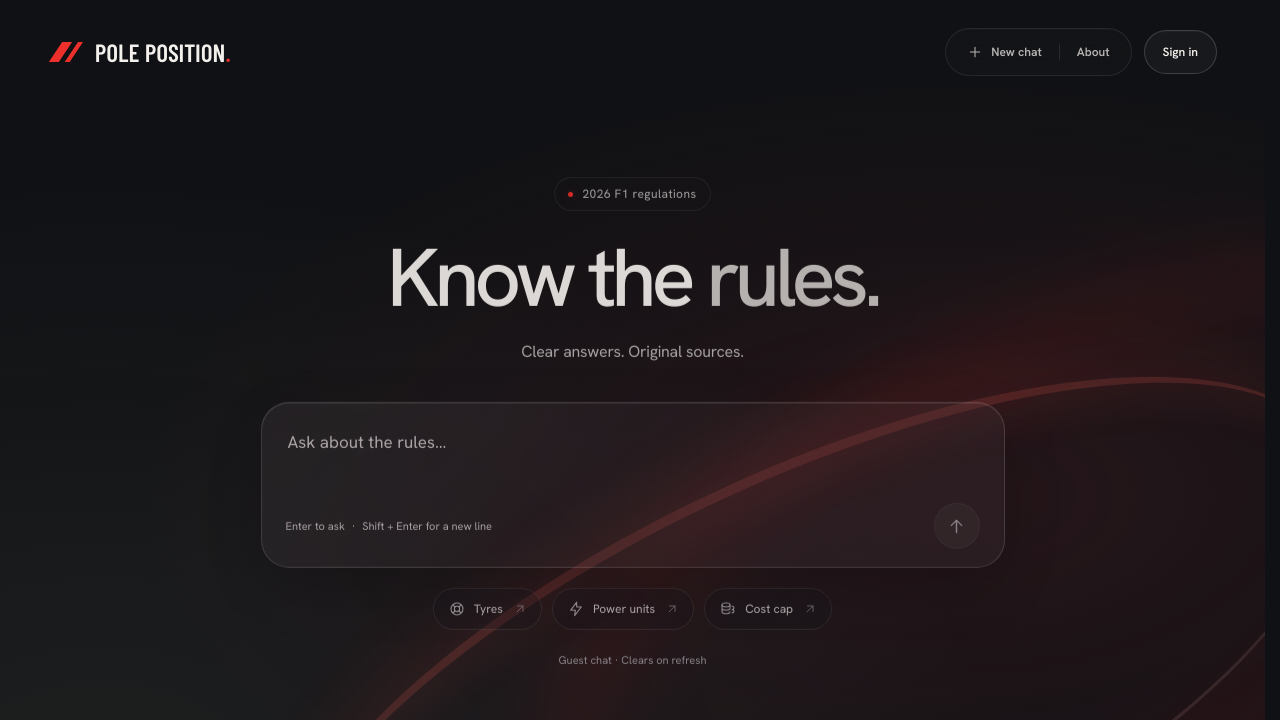
Test: guest chat integration › restores a network-failed draft and explicitly resends without adding a failed turn
Type "Retry question" into the text box. click: (632, 457)
box: [286, 424, 980, 490]
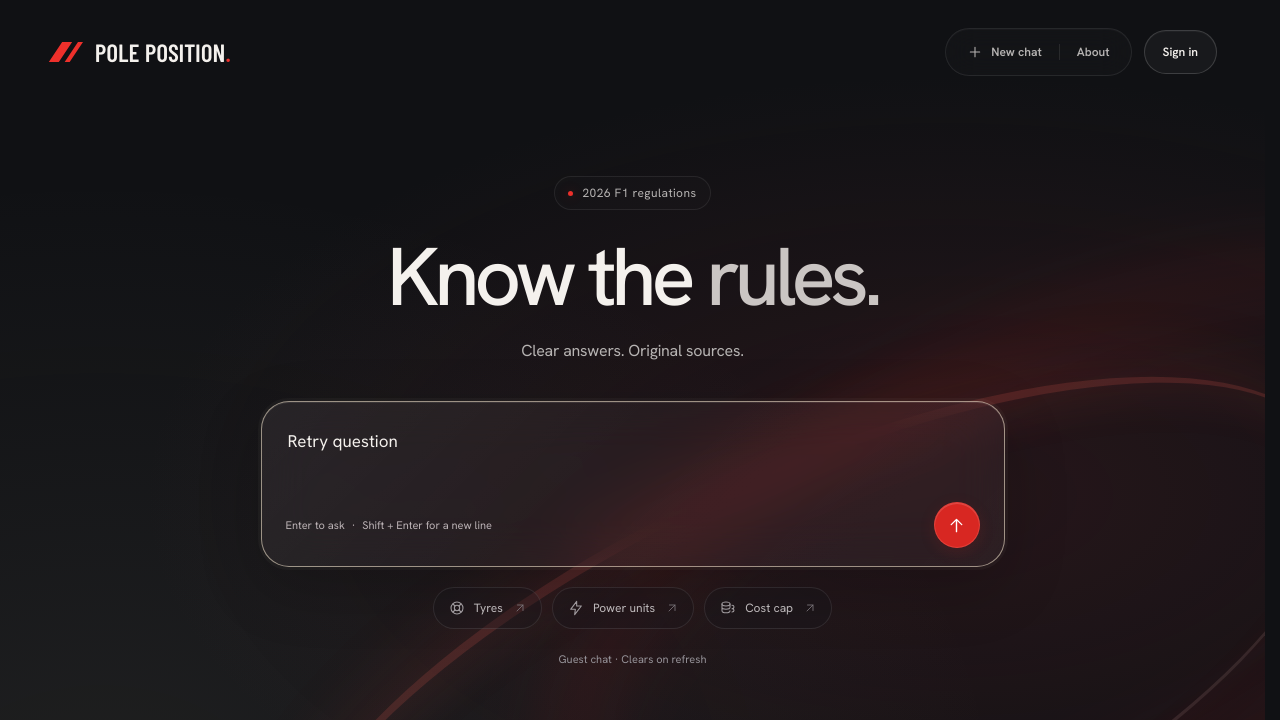
Click the button named "Send question". click: (956, 525)
box: [934, 502, 980, 548]
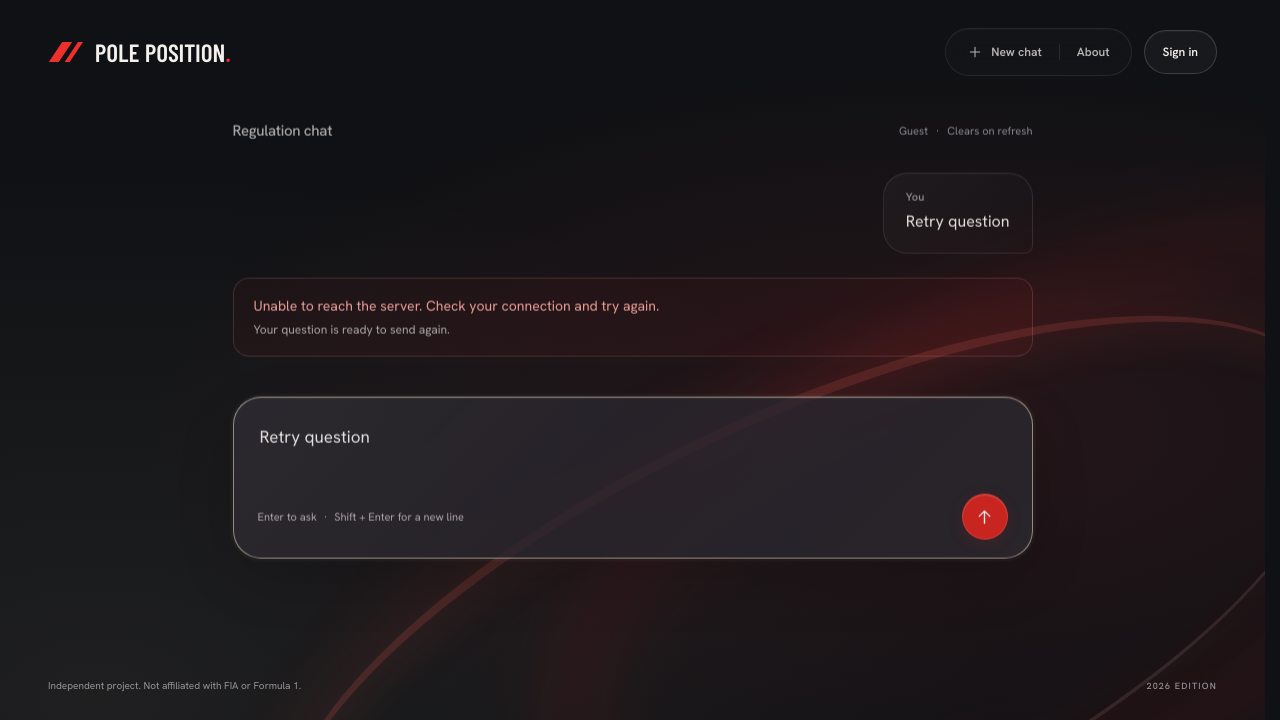
Expected: the text box holds "Retry question", [258, 419, 1008, 481]
Expected: the message shows "Unable to reach the server", [254, 296, 659, 314]
Click the button named "Send question". click: (984, 516)
box: [962, 493, 1008, 539]
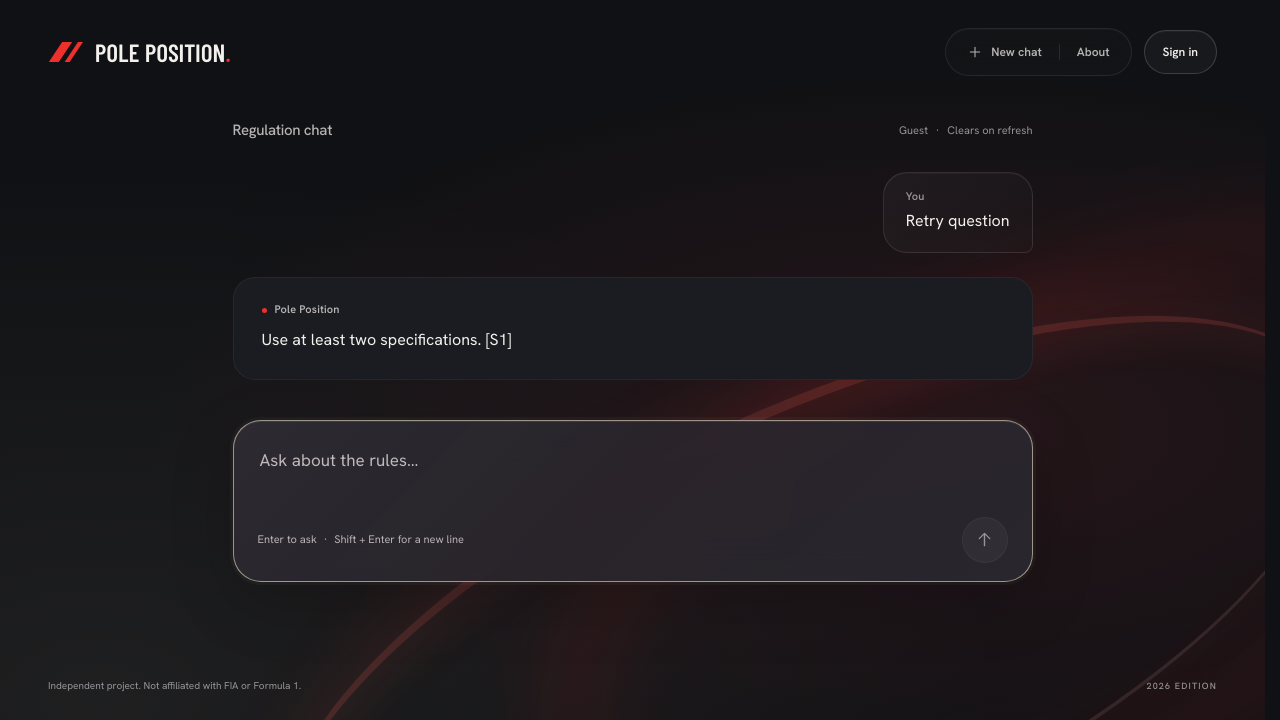
Expected: the text "Retry question" is shown once, [906, 207, 1010, 236]
Expected: the text "Use at least two specifications. [S1]" is shown, [262, 329, 512, 350]
Expected: the message is gone
